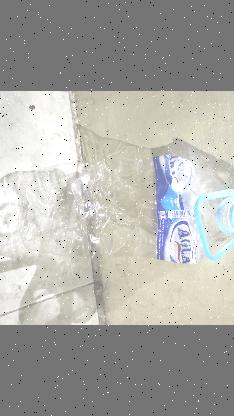Plastic Bottle: (0, 154, 234, 265)
